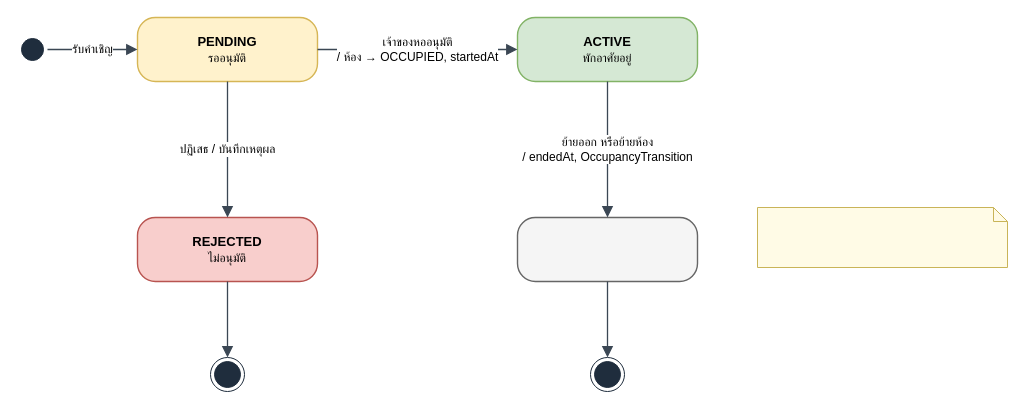
Some shapes in this 1025 by 410 pixel diagram are drawn without their labels. The shapes that lost their labels are listed below. From the top down, each one's box as (x1, y1, x2, y2) in pixels, then its label:
(516, 216, 698, 282): ENDED สิ้นสุดการเข้าพัก
(756, 206, 1008, 268): ย้ายห้อง = จบ occupancy เดิม แล้วสร้าง occupancy ใหม่ที่ห้องปลายทาง
